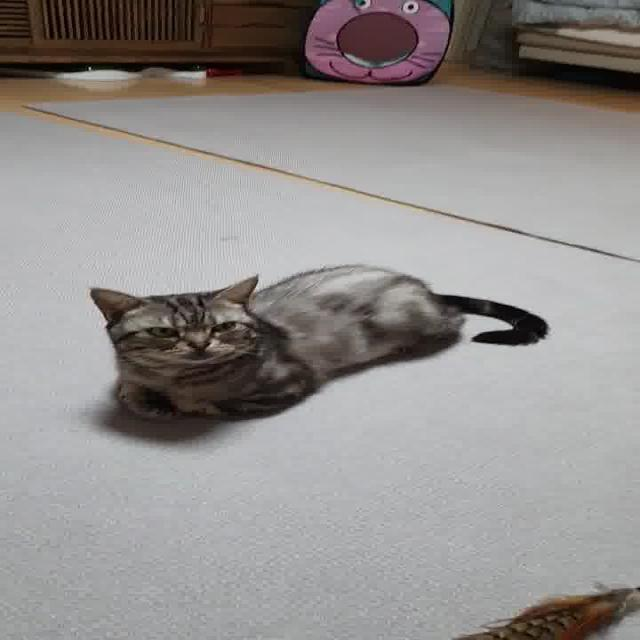cat: (55, 242, 557, 435)
